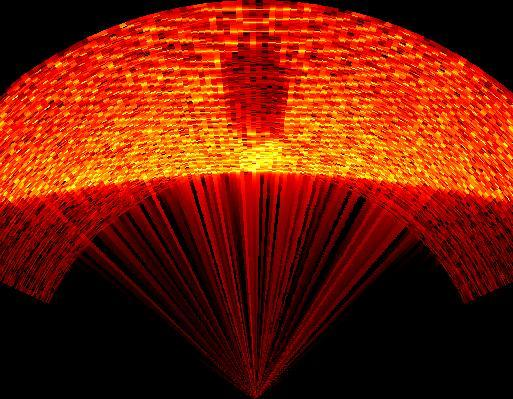box_crate: (220, 22, 301, 144)
